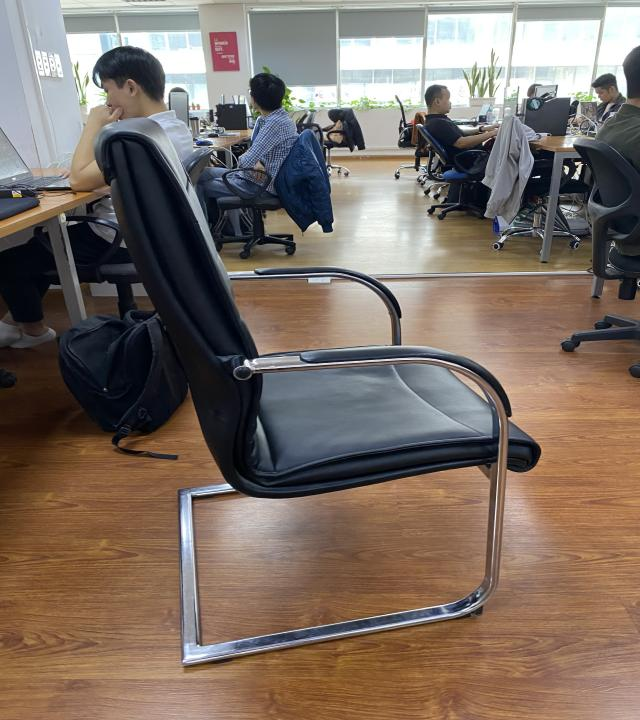SS_03: (90, 113, 542, 673)
